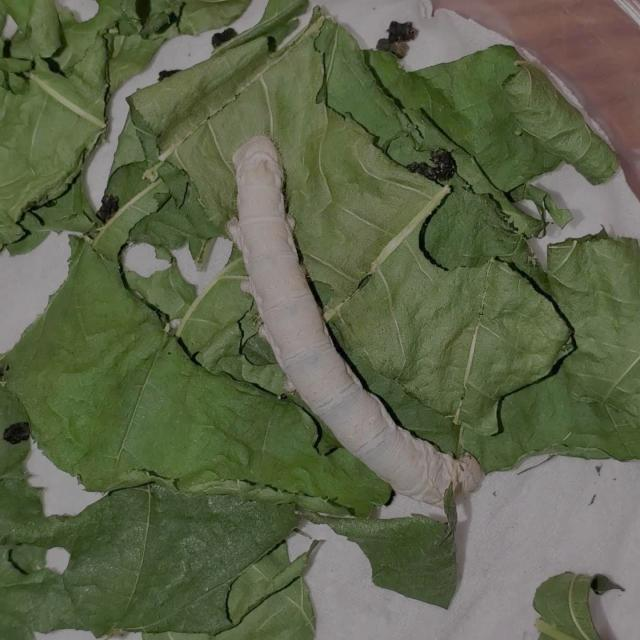Healthy: (196, 122, 518, 550)
